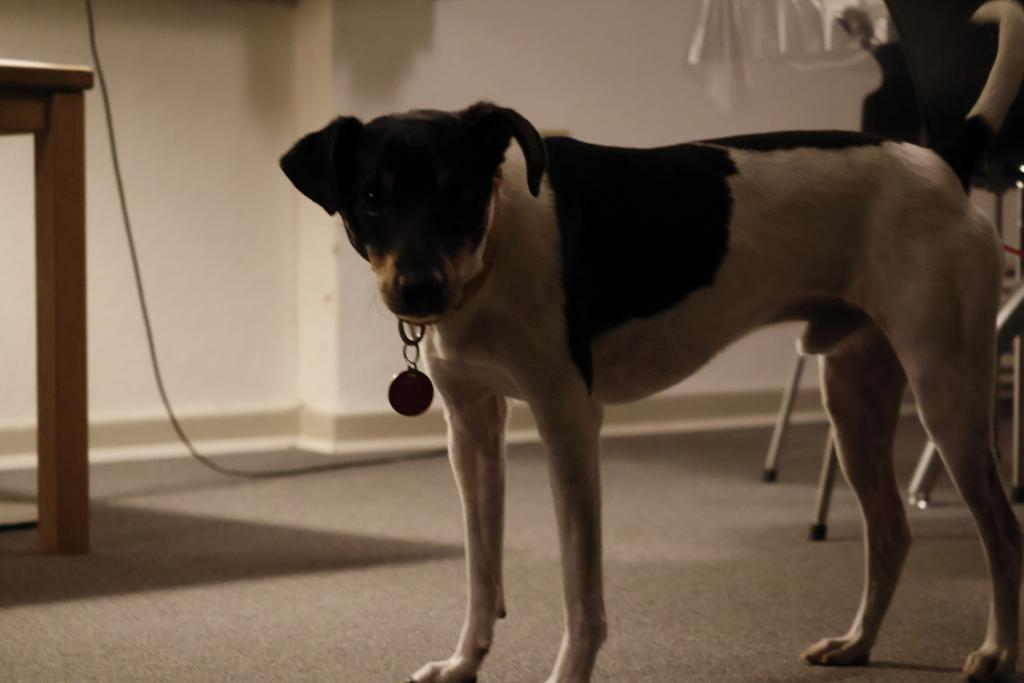Dog: (269, 0, 1024, 683)
